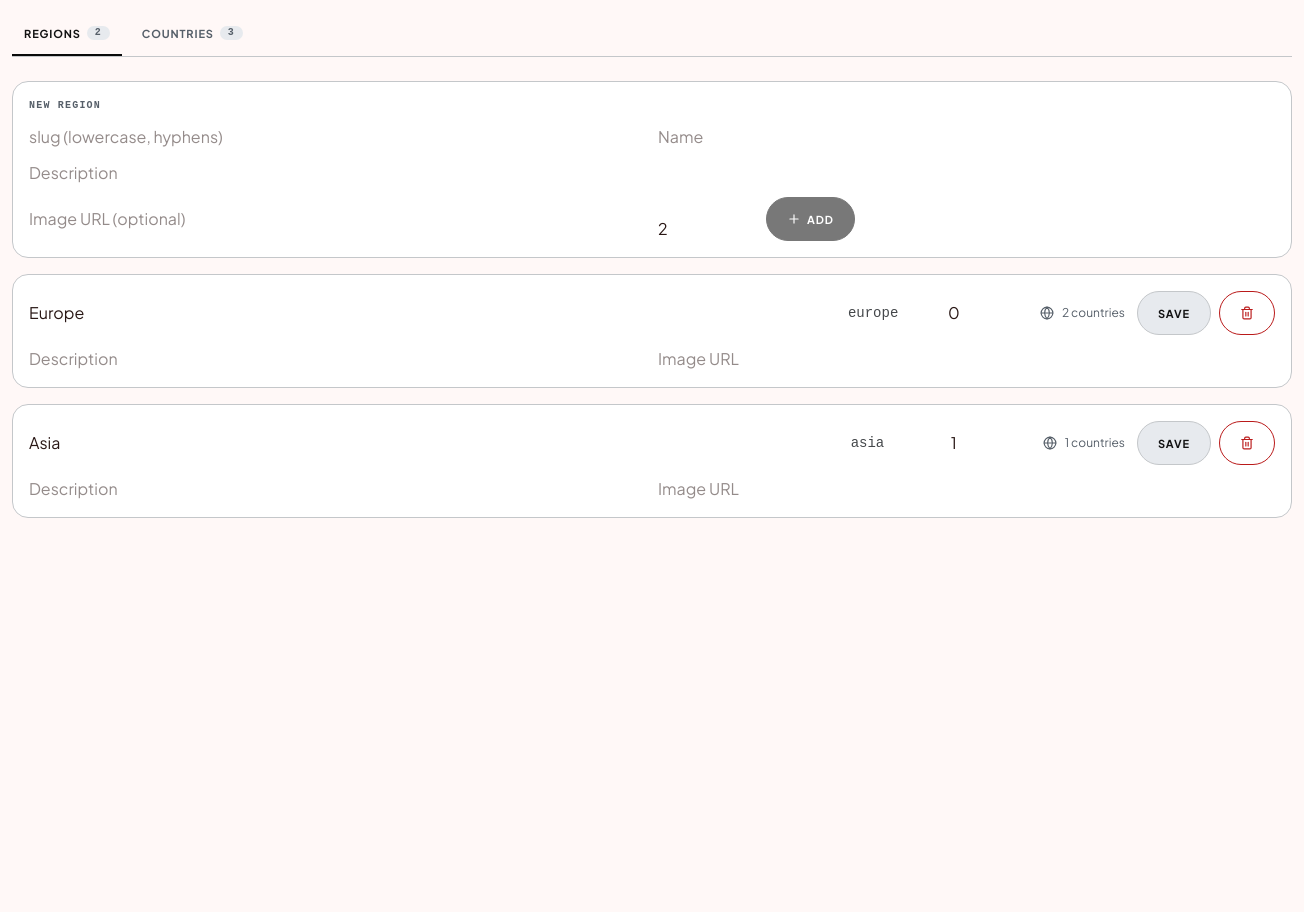
Test: RegionManager › renders regions by default and switches to countries
The image size is (1304, 912).
Check: the field showing "Europe" is shown, box [29,301,828,325]
Step 1. Click the button "Countries 3" → (192, 34), box [130,12,255,56]
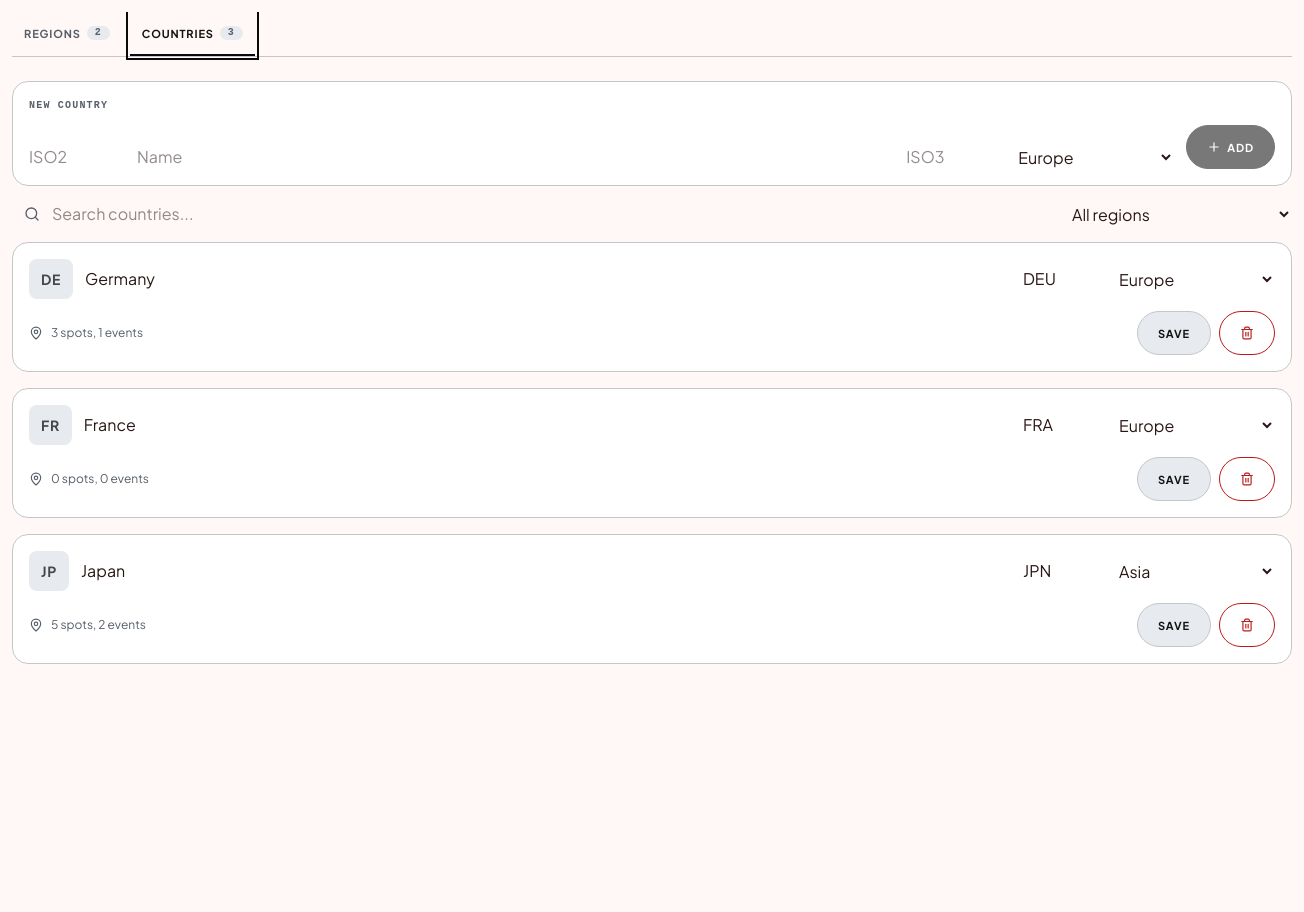
Check: the field showing "Germany" is shown, box [85,267,1011,291]
Check: the field showing "Japan" is shown, box [81,559,1011,583]
